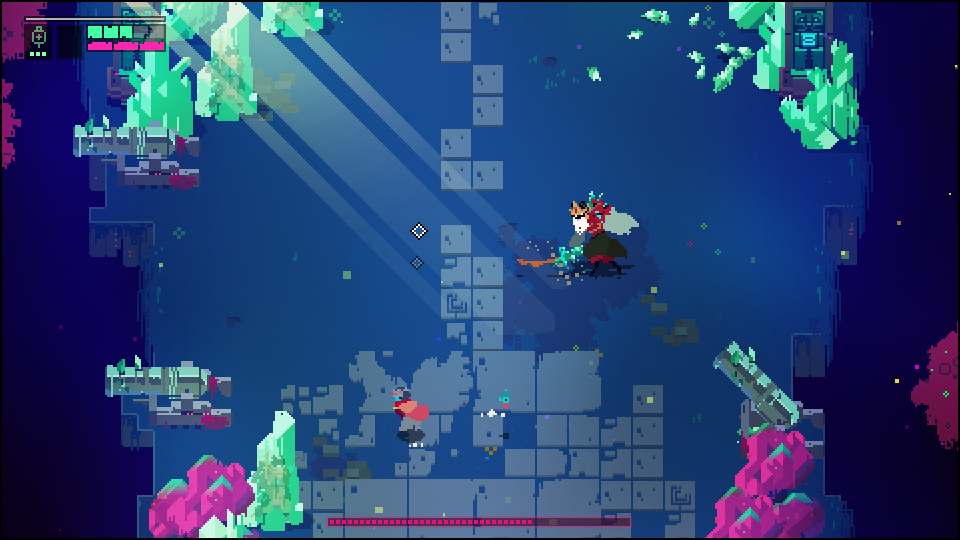hanged_man: (545, 187, 643, 279)
player: (386, 379, 432, 441)
